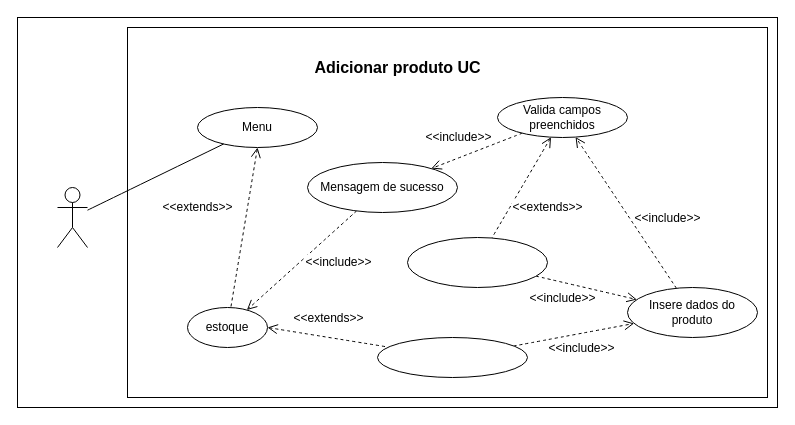
Some shapes in this 795 by 425 pixel diagram are drawn without their labels. Here are the shapes that lost their labels. From the top down, the centre of each, then its label:
At point 72,217: "Funcionário".
At point 477,262: "Mensagem de campo faltante".
At point 452,357: "adicionar produto".
